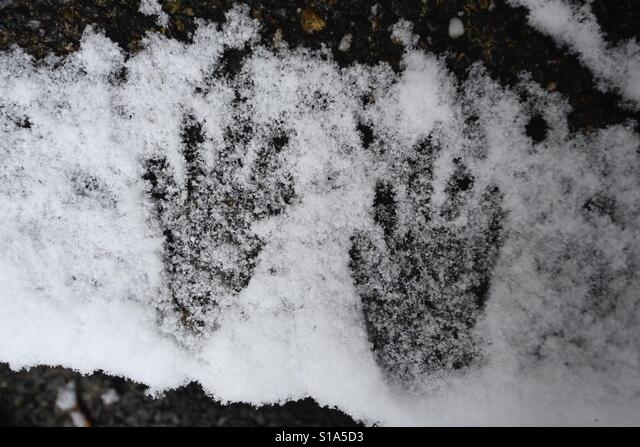raccoon: (340, 147, 524, 380), (138, 99, 301, 339)
